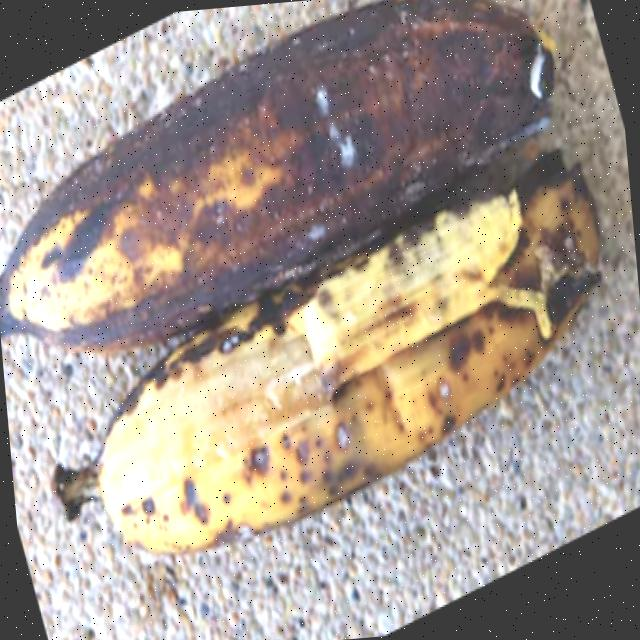Rotten: (21, 134, 640, 594), (0, 0, 583, 369)
